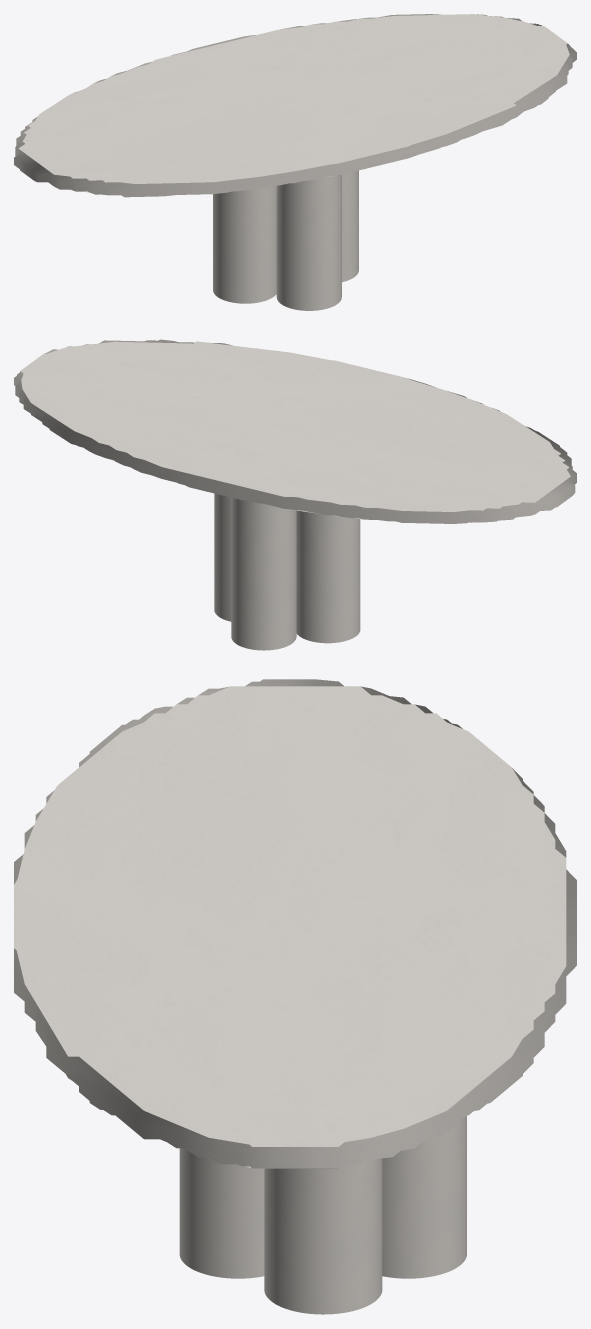
The model's file is pearlwhite_ellips_round_secondtable.glb.
The picture shows the model from 3 angles, top to bottom: view 1: azimuth 30°, elevation 25°; view 2: azimuth 150°, elevation 25°; view 3: azimuth 270°, elevation 25°; orthographic projection. The views are drawn at different scales.
Parts seen in each view (by area): view 1: round_ellips, secondtable; view 2: round_ellips, secondtable; view 3: round_ellips, secondtable.
Part boxes in pixels (<box>): round_ellips: <box>14,14,576,197</box>; secondtable: <box>213,170,358,310</box>; round_ellips: <box>14,339,576,523</box>; secondtable: <box>214,493,360,650</box>; round_ellips: <box>14,679,576,1168</box>; secondtable: <box>179,1116,466,1314</box>.
Size of the model in its own units: 7.43 by 2.5 by 3.77.
1 material, 1 textured.
